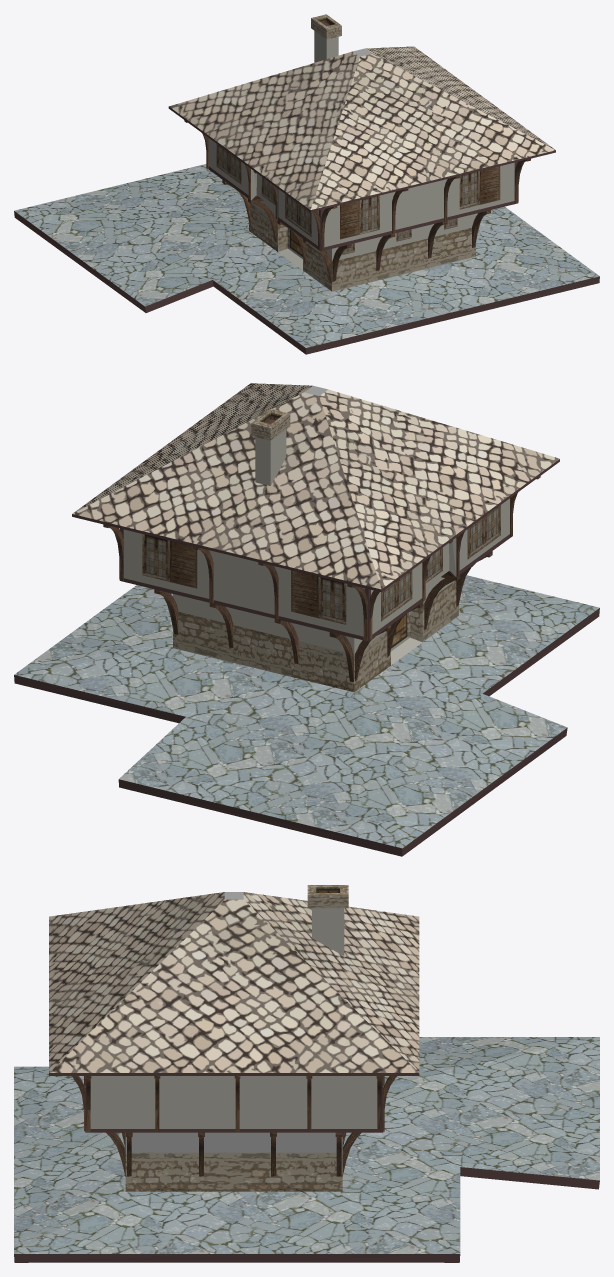
The model's file is House_6.fbx.
3 views of the same model, one above another, from view 1: azimuth 30°, elevation 25°; view 2: azimuth 150°, elevation 25°; view 3: azimuth 270°, elevation 25° (orthographic). The views are drawn at different scales.
Parts seen in each view (by area): view 1: House_body, lower_support, upper_support; view 2: House_body, lower_support, upper_support; view 3: House_body, upper_support, lower_support.
Boxes of the visible parts, box(x1,y1,x2,y2) form: House_body: box(14, 14, 599, 354); lower_support: box(222, 180, 490, 282); upper_support: box(184, 120, 530, 250); House_body: box(14, 383, 599, 856); lower_support: box(154, 551, 492, 681); upper_support: box(103, 476, 540, 640); House_body: box(14, 885, 599, 1262); upper_support: box(71, 1076, 396, 1132); lower_support: box(106, 1132, 361, 1176).
Size of the model in its own units: 2011 by 1174 by 2160.
Materials: 8 (5 with a texture image).
